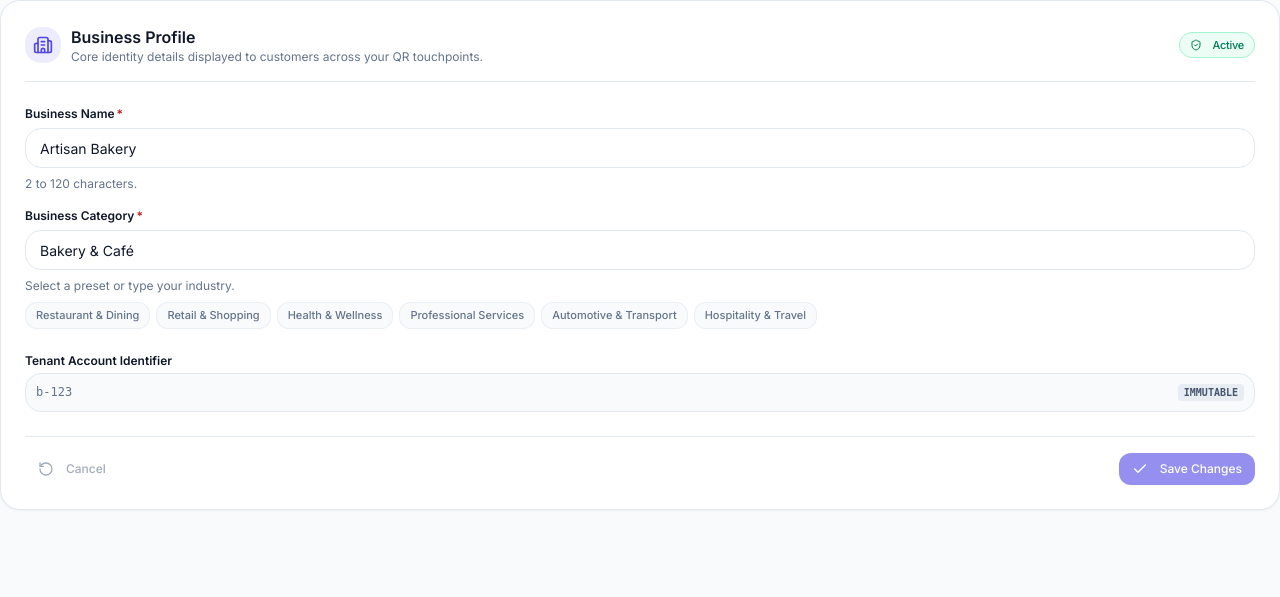
Test case: BusinessProfileForm Component › displays error alert on API rejection and preserves unsaved edits
Replace the text in the field labelled "Business Name*" with "Attempted Name": (640, 148) [25,128,1255,168]
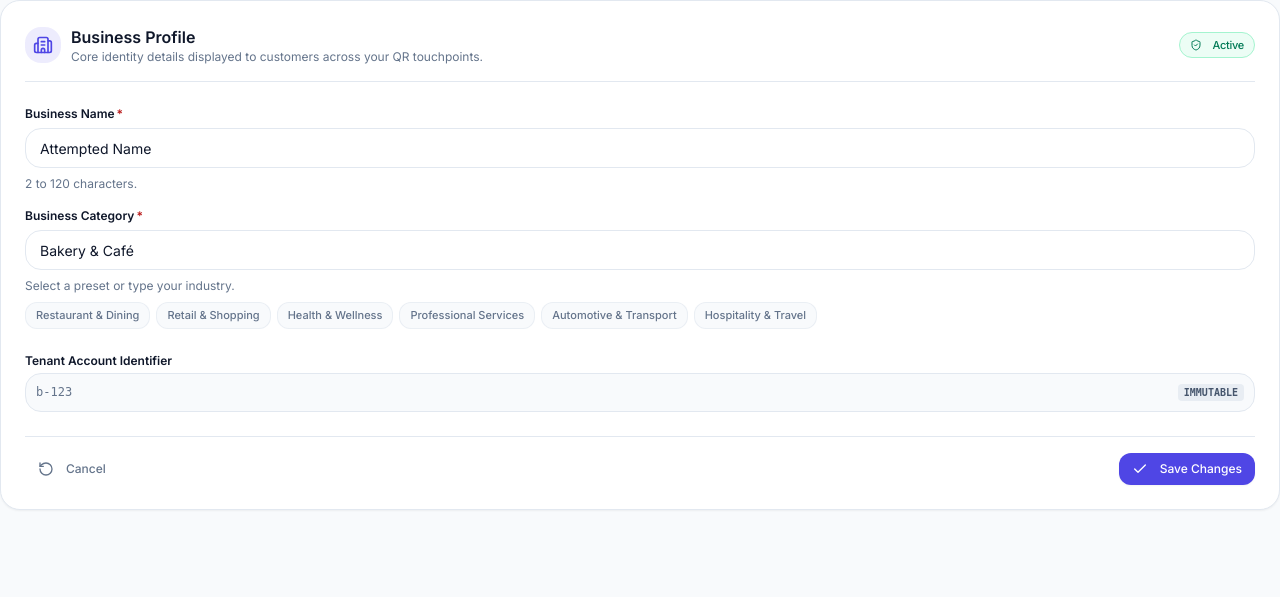
Click the button "Save Changes": (1187, 469) [1119,453,1255,485]
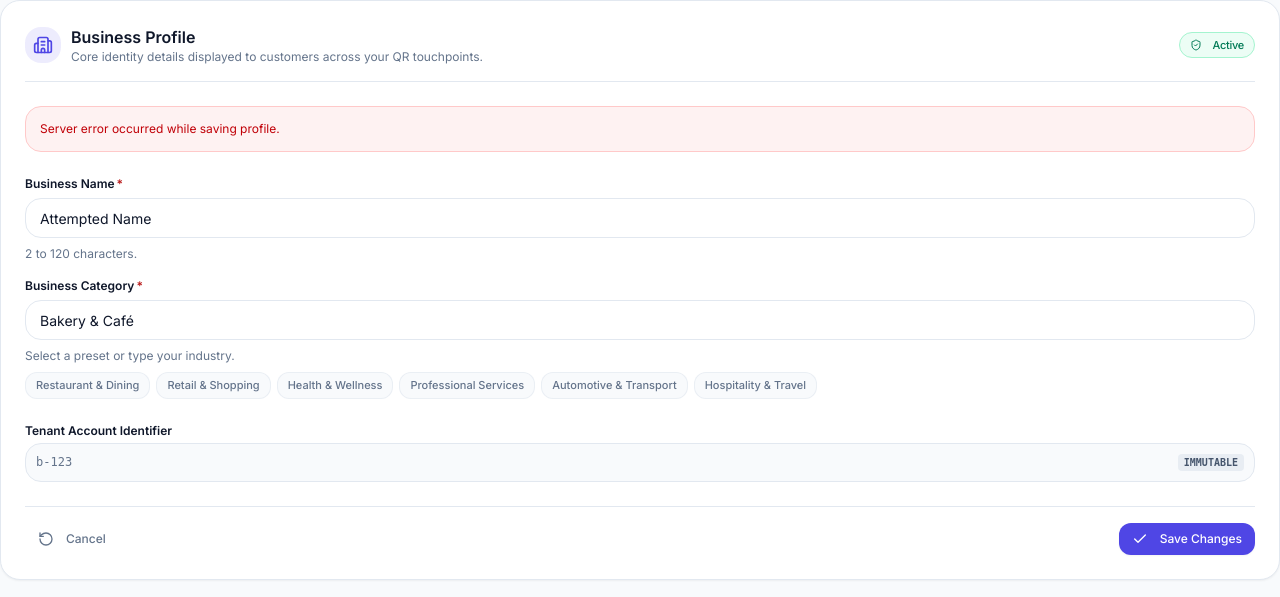
Expected: the text "Server error occurred while saving profile." is shown, [25,106,1255,152]
